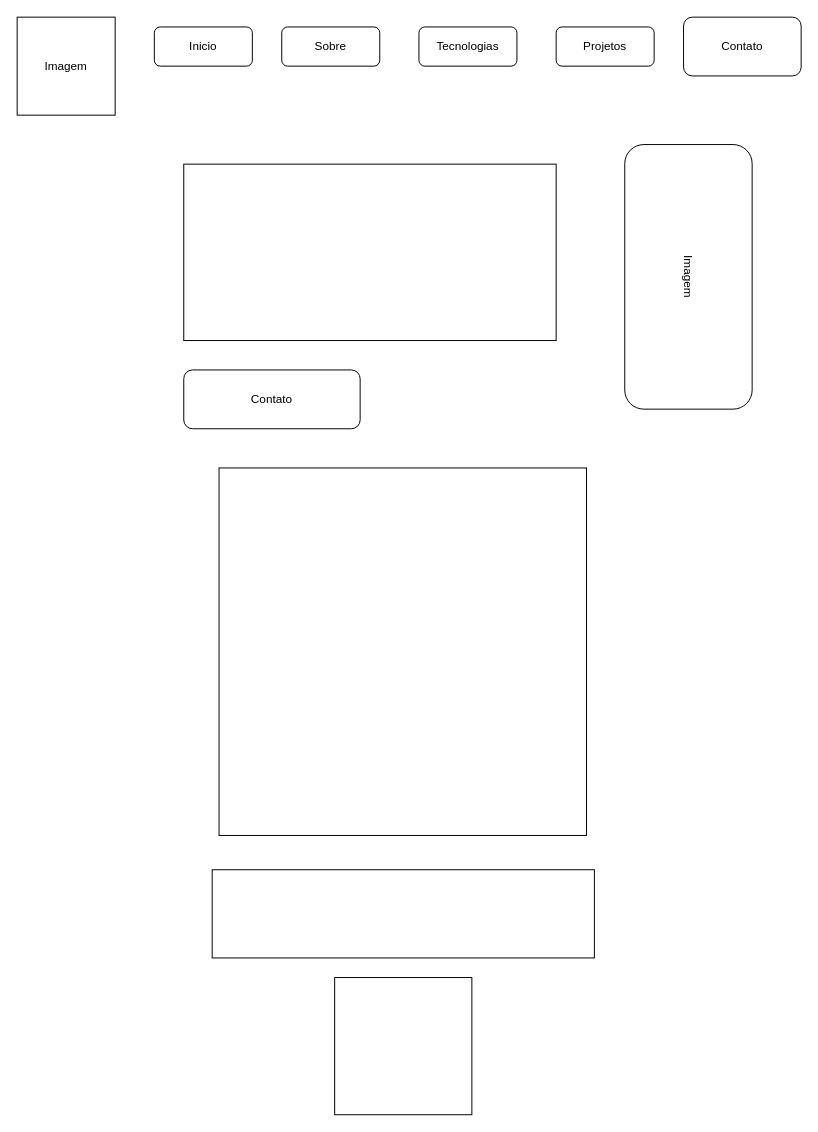
The diagram is 818 pixels wide and 1132 high, and some of its shapes have lost their labels. Here are the shapes that lost their labels. From the top down, the box of each, then its label:
(183, 163, 556, 341): Texto
(218, 467, 587, 835): Especialidades
(211, 869, 594, 958): Curiosidades
(334, 977, 472, 1115): Saiba mais
